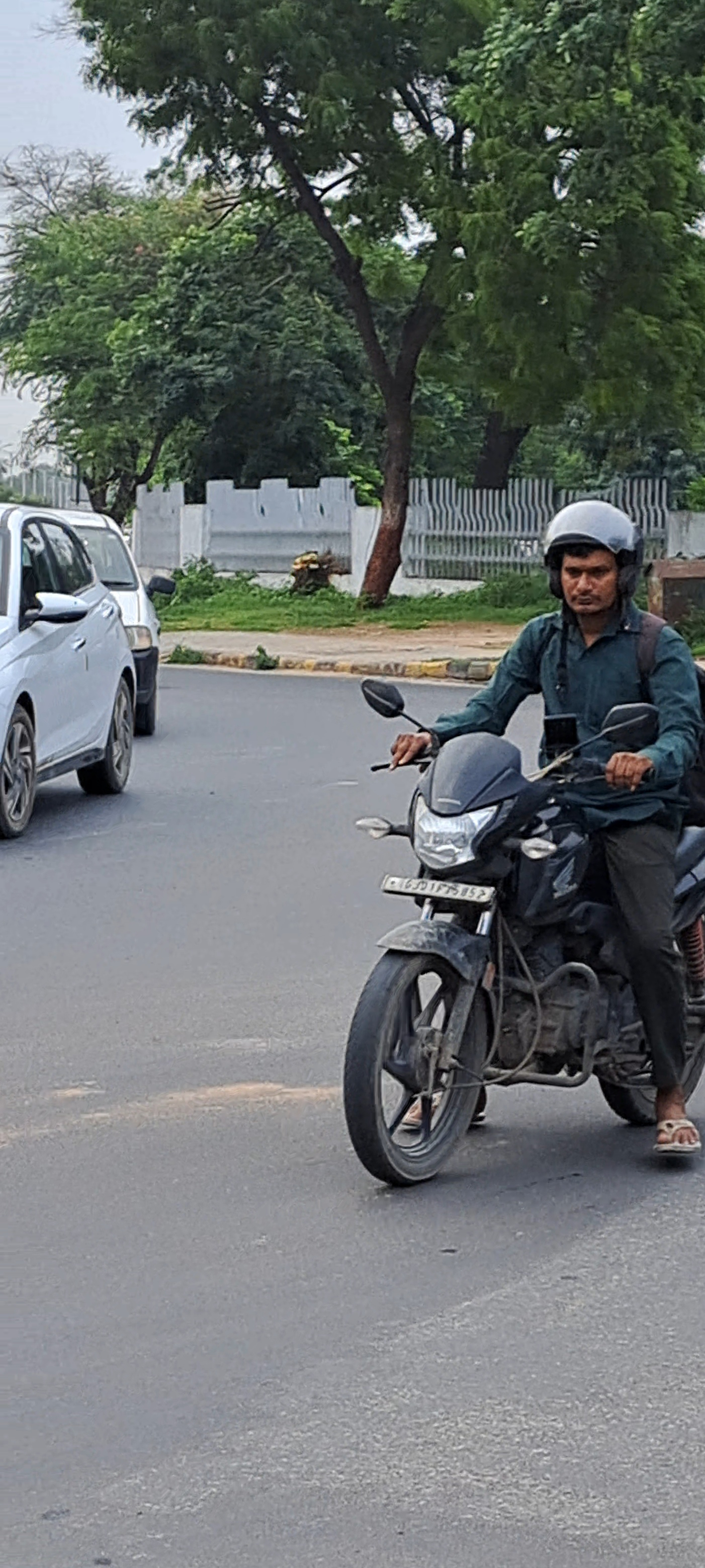BikeWithRider: (327, 473, 705, 1245)
Helmet: (524, 486, 654, 639)
